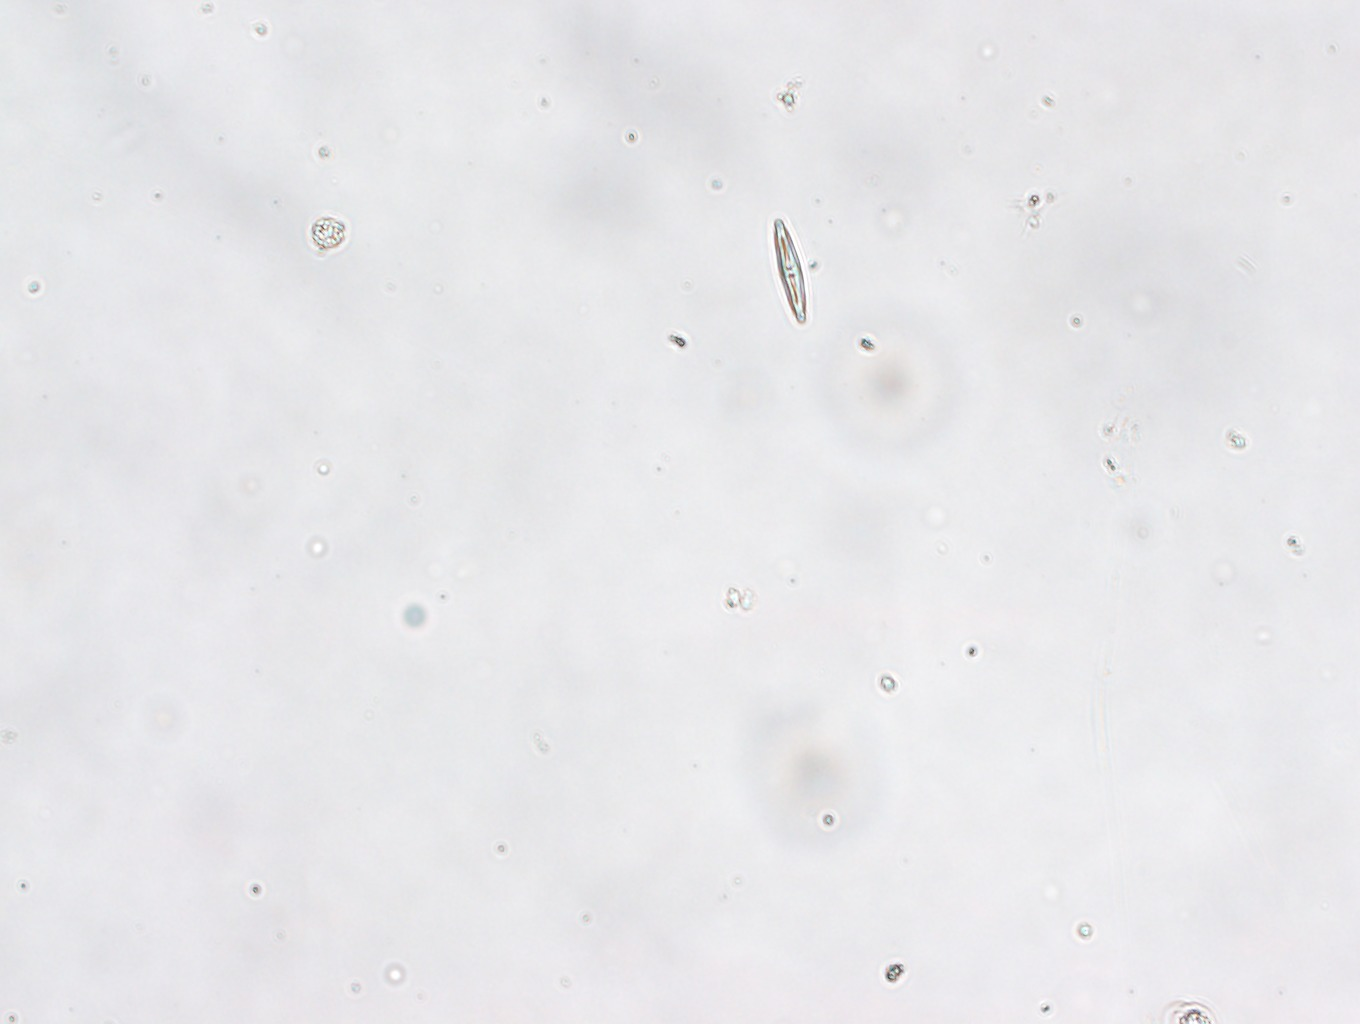navicula: (774, 217, 808, 325)
